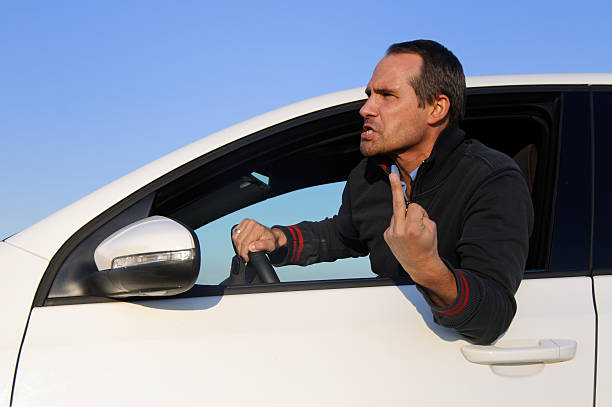insulting_gesture: (384, 175, 442, 281)
